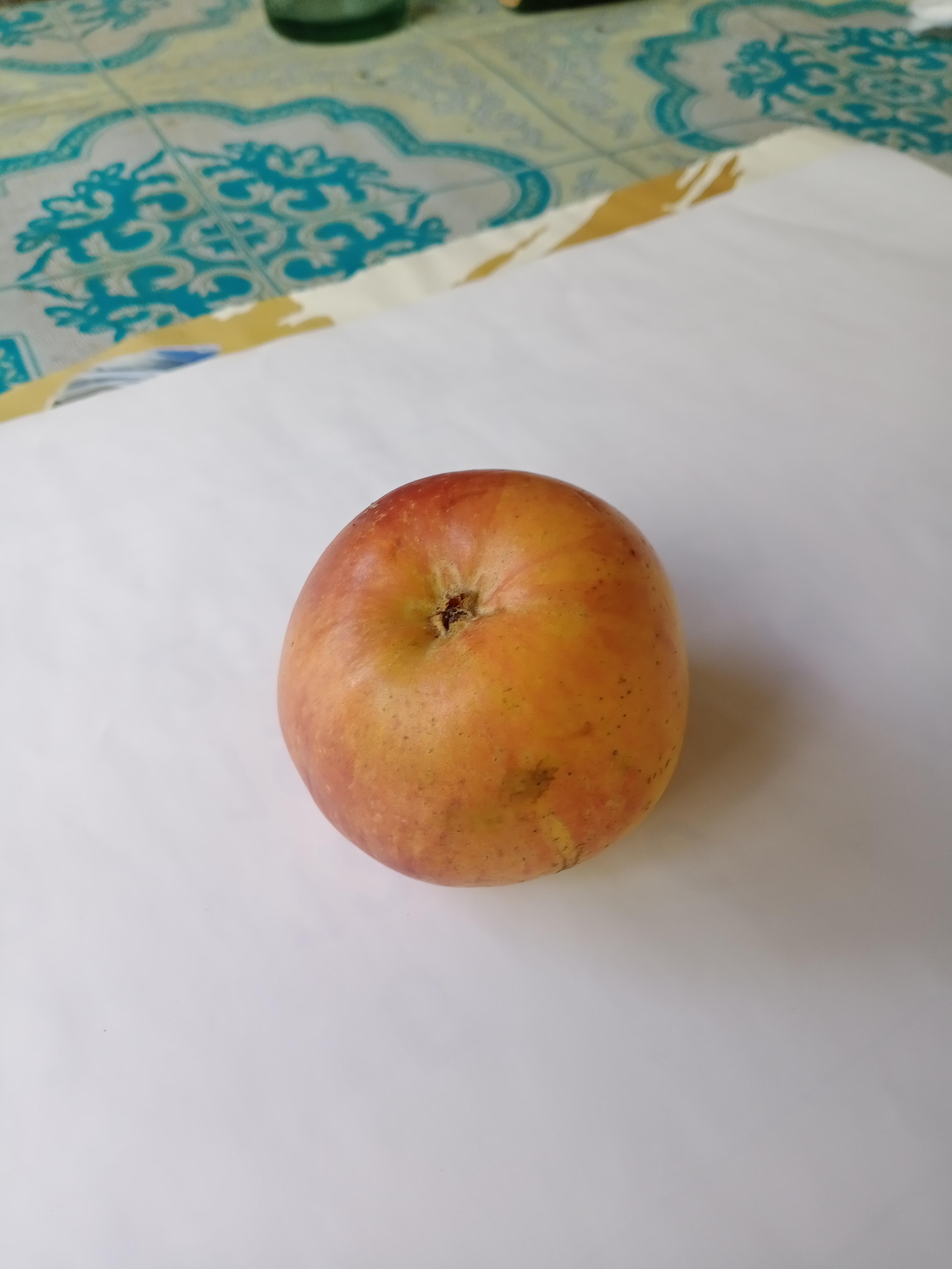Apple Ripe: (278, 471, 688, 886)
